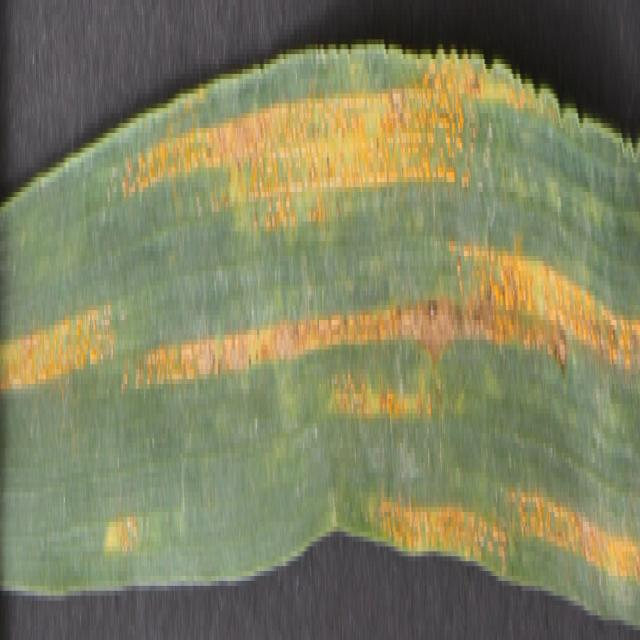leaf rust: (1, 49, 639, 606)
